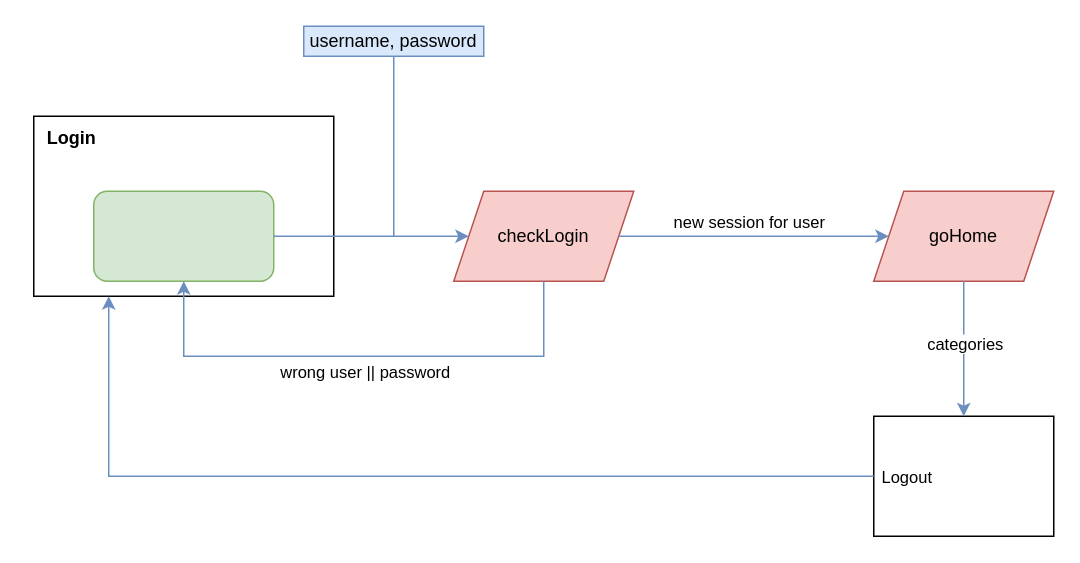
This 1080x563 diagram has some shape labels left out. Here are the shapes that lost their labels. From the top down, the centre of each, then its label:
(x=183, y=235): Form [Field: username, Field: password]
(x=963, y=475): Home
